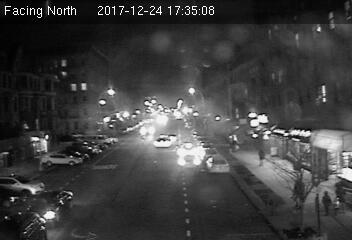car: (23, 188, 75, 224), (205, 156, 231, 175), (176, 152, 201, 170), (152, 136, 171, 148)
pedestrian: (322, 188, 333, 215), (258, 147, 267, 172)
